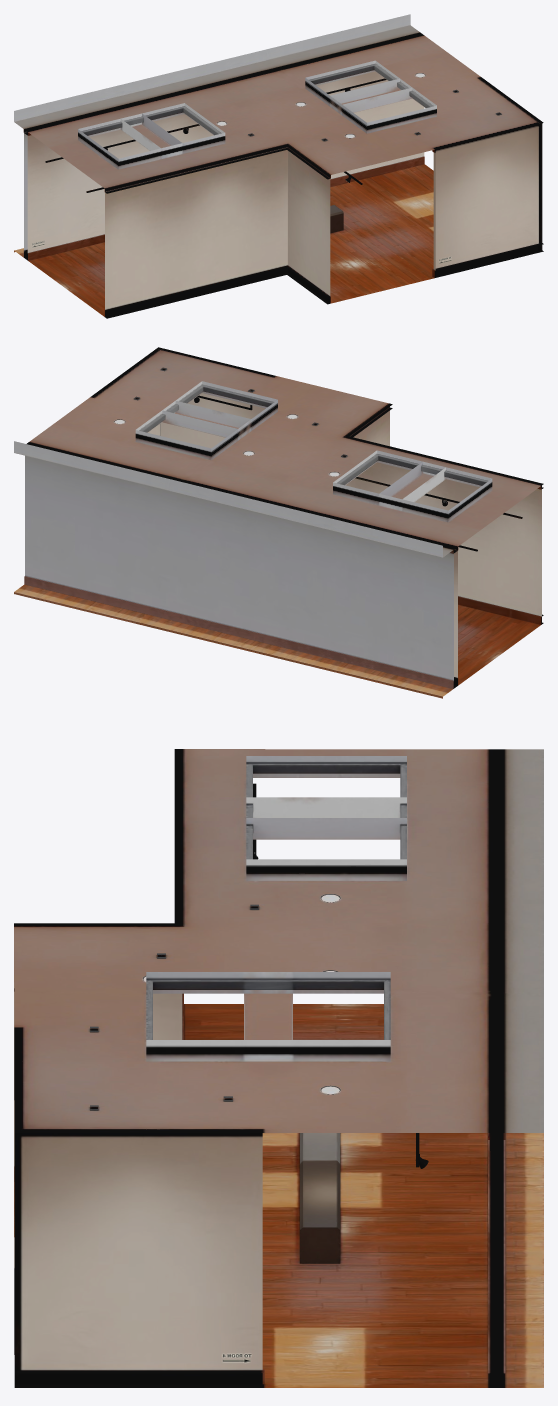
Rendered from room_5.glb.
3 renders of one model, top to bottom at view 1: azimuth 30°, elevation 25°; view 2: azimuth 150°, elevation 25°; view 3: azimuth 270°, elevation 25°, orthographic. The views are drawn at different scales.
Parts seen in each view (by area): view 1: room_5; view 2: room_5; view 3: room_5.
Boxes of the visible parts, box(x1,y1,x2,y2) form: room_5: box(14, 14, 543, 318); room_5: box(14, 347, 543, 698); room_5: box(14, 749, 543, 1387).
Size of the model in its own units: 11.3 by 3.85 by 6.6.
2 materials, 2 textured.
